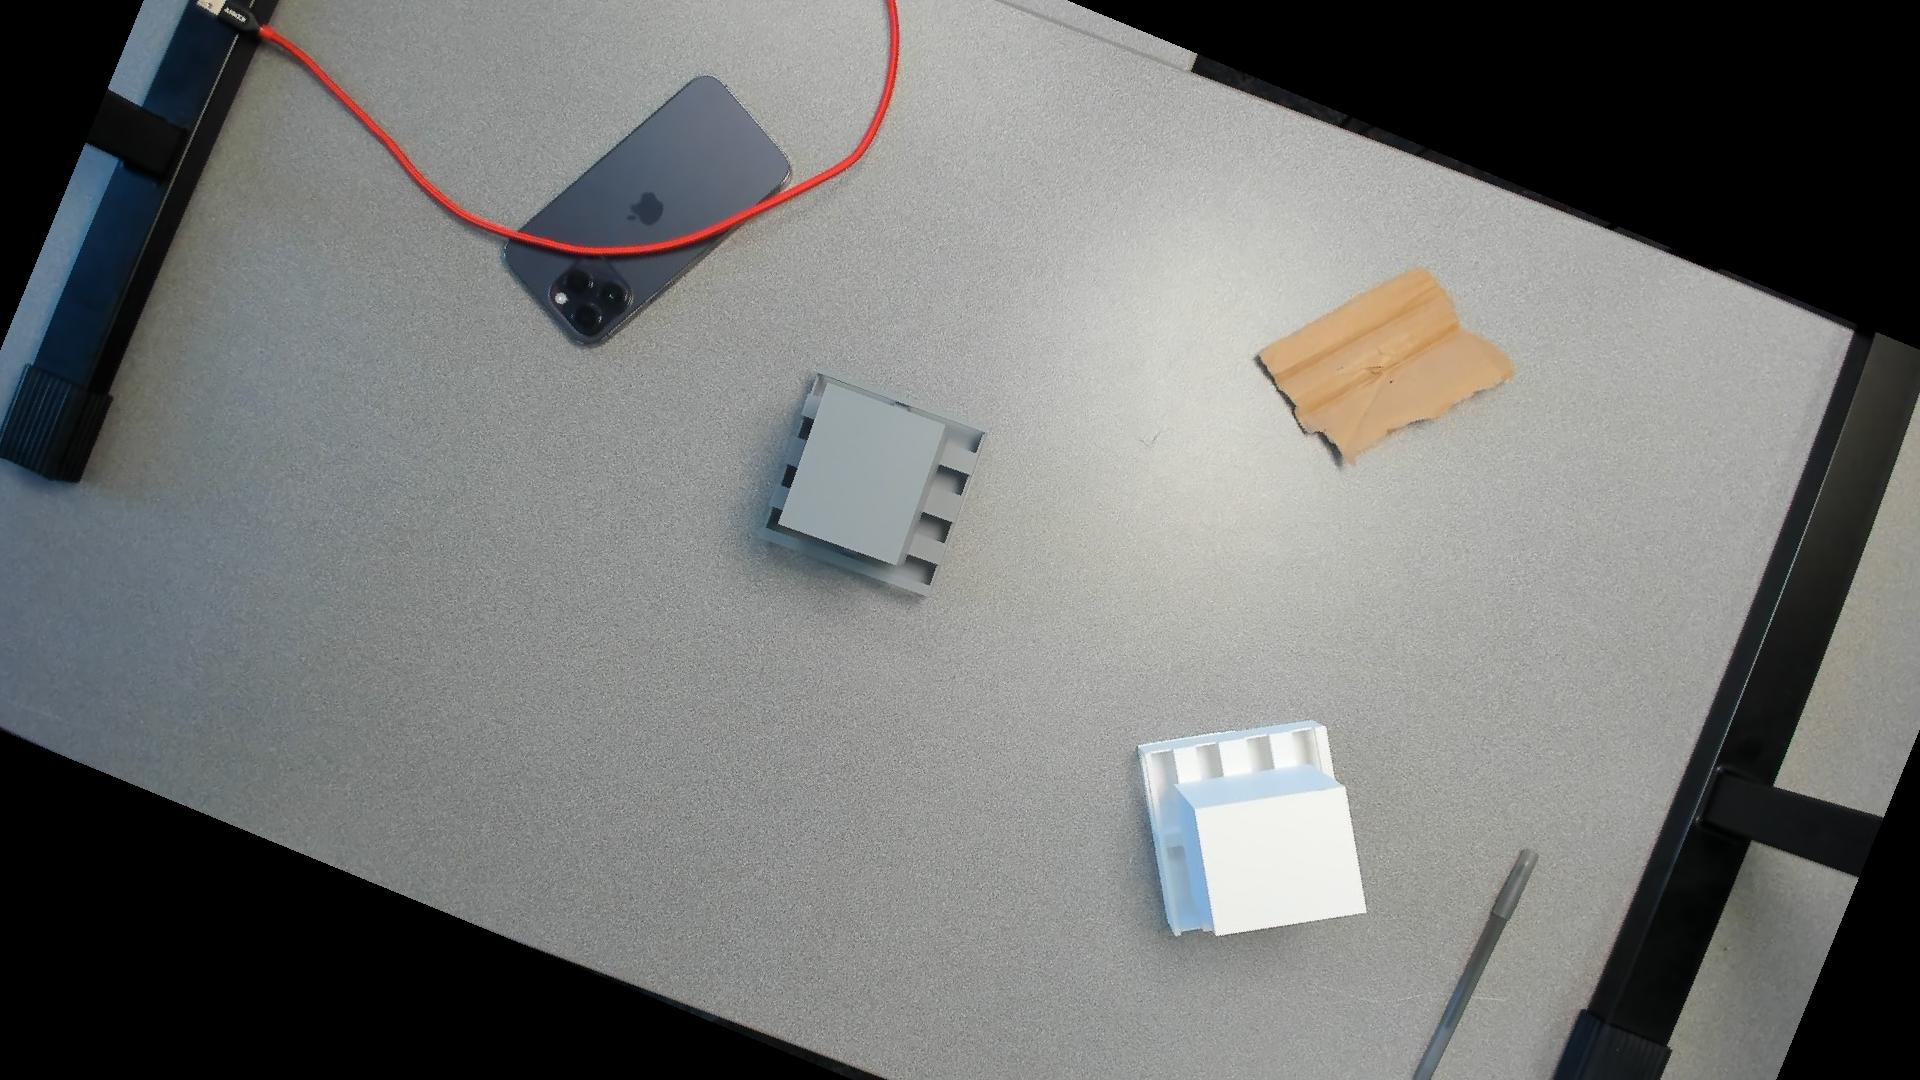grey pallet: (737, 361, 992, 611)
white pallet: (1122, 713, 1381, 965)
